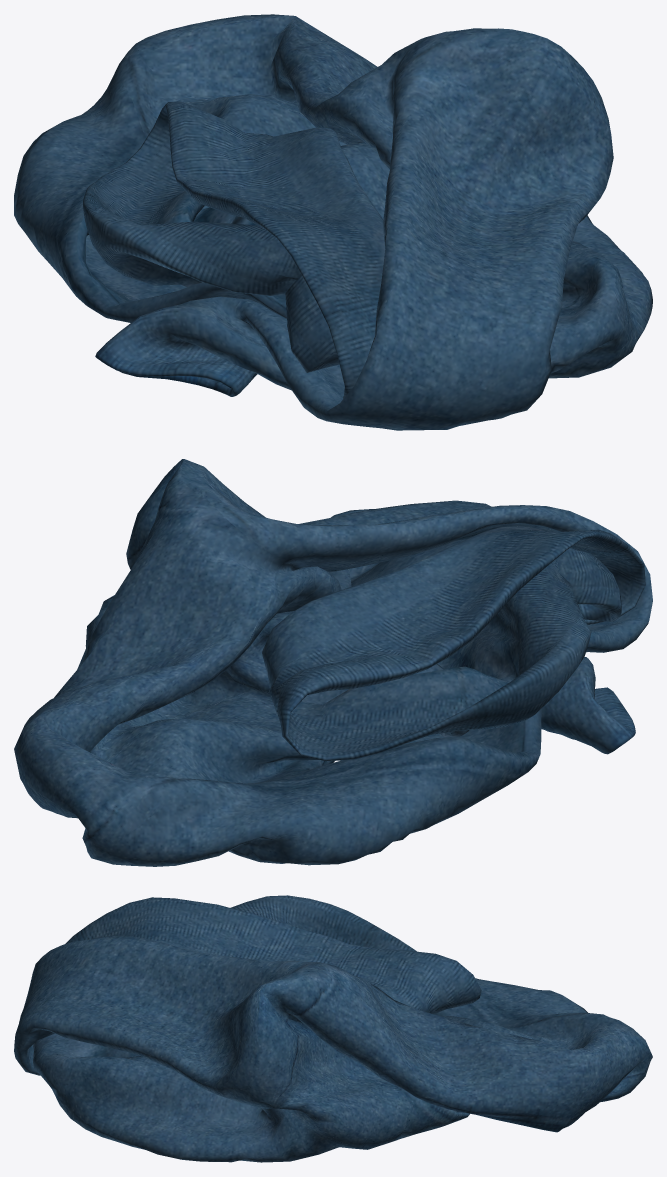
Rendered from Womens_Pullover_1_V5.obj.
The picture shows the model from 3 angles, top to bottom: view 1: azimuth 30°, elevation 25°; view 2: azimuth 150°, elevation 25°; view 3: azimuth 270°, elevation 25°; orthographic projection. The views are drawn at different scales.
Visible parts, largest first — view 1: Womens_Pullover_1_005; view 2: Womens_Pullover_1_005; view 3: Womens_Pullover_1_005.
Part boxes in pixels (bbox=[...]): Womens_Pullover_1_005: bbox=[14, 14, 652, 430]; Womens_Pullover_1_005: bbox=[14, 459, 652, 866]; Womens_Pullover_1_005: bbox=[14, 895, 652, 1162].
Size of the model in its own units: 30.15 by 12.17 by 42.82.
1 material, 1 textured.
